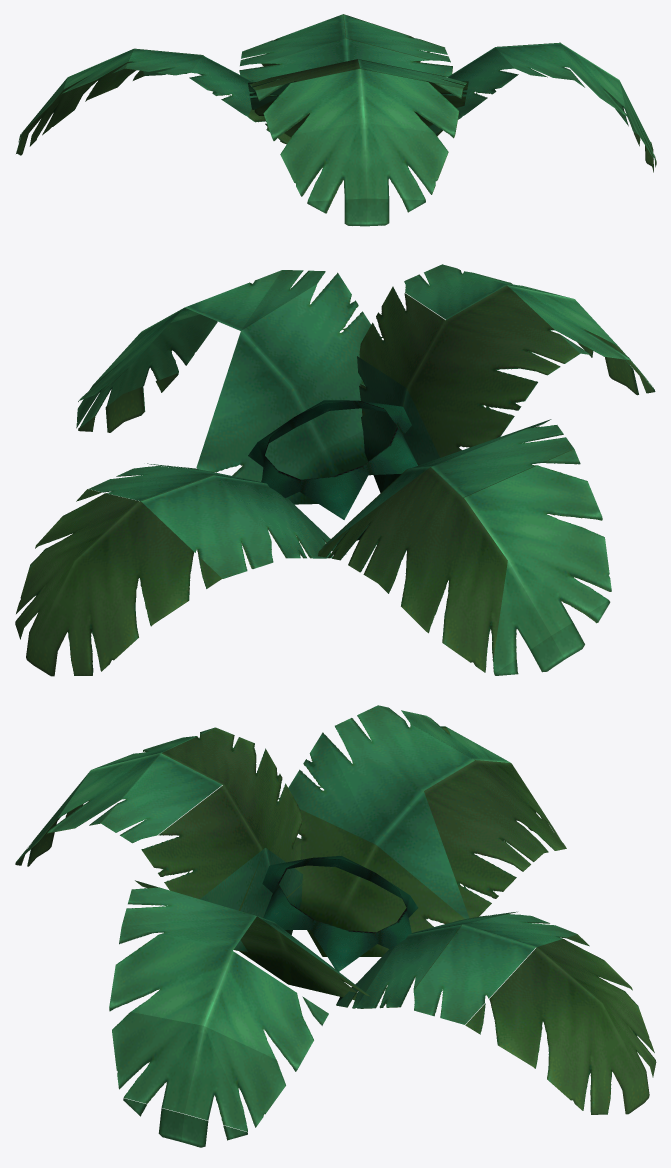
File: FixedLeaves2.obj
3 renders of one model, top to bottom at view 1: azimuth 30°, elevation 25°; view 2: azimuth 150°, elevation 25°; view 3: azimuth 270°, elevation 25°, orthographic. The views are drawn at different scales.
Visible parts, largest first — view 1: polygon11, polygon9; view 2: polygon11, polygon9; view 3: polygon11, polygon9.
Part boxes in pixels (box(x1,y1,x2,y2)): polygon11: box(16, 14, 655, 226); polygon9: box(16, 14, 656, 213); polygon11: box(76, 264, 655, 675); polygon9: box(15, 285, 653, 676); polygon11: box(15, 705, 577, 1147); polygon9: box(15, 707, 656, 1114).
Size of the model in its own units: 13.72 by 5.32 by 12.17.
